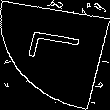L_E: (22, 34, 88, 76)
